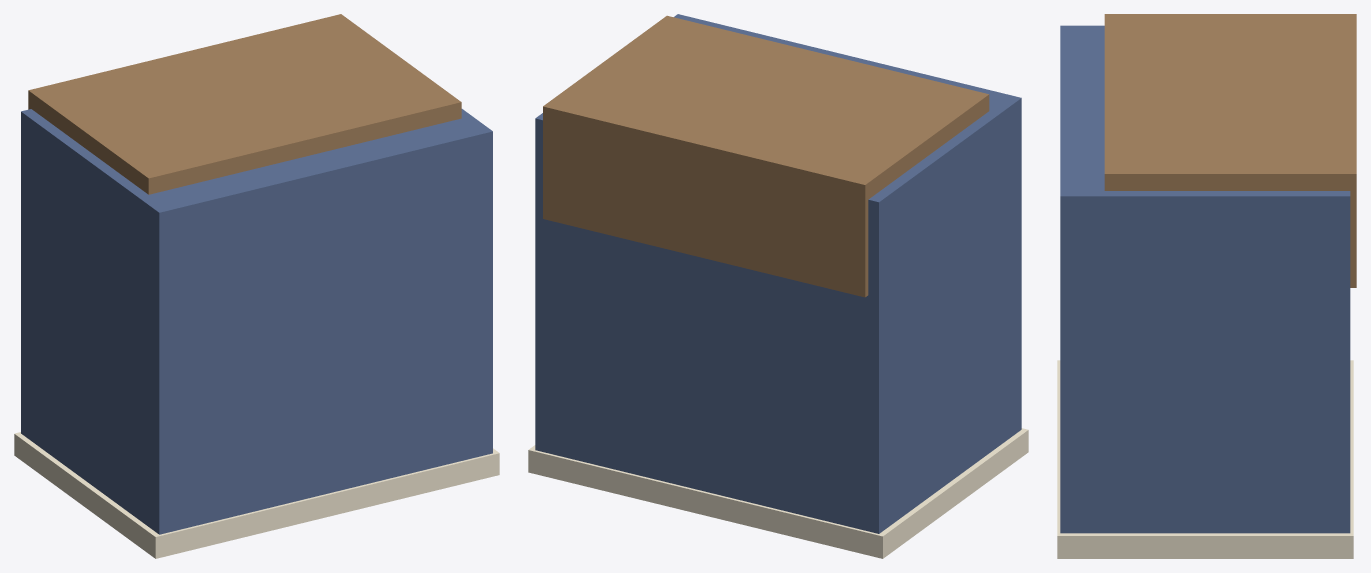
The model's file is viking_peles_saia.glb.
3 views of the same model, side by side, from view 1: azimuth 30°, elevation 25°; view 2: azimuth 150°, elevation 25°; view 3: azimuth 270°, elevation 25° (orthographic). The views are drawn at different scales.
Visible parts, largest first — view 1: viking_peles_saia; view 2: viking_peles_saia; view 3: viking_peles_saia.
Boxes of the visible parts, left/top/right/bottom form: viking_peles_saia: left=14, top=14, right=499, bottom=558; viking_peles_saia: left=528, top=14, right=1028, bottom=558; viking_peles_saia: left=1057, top=14, right=1356, bottom=558.
Size of the model in its own units: 0.66 by 0.66 by 0.475.
